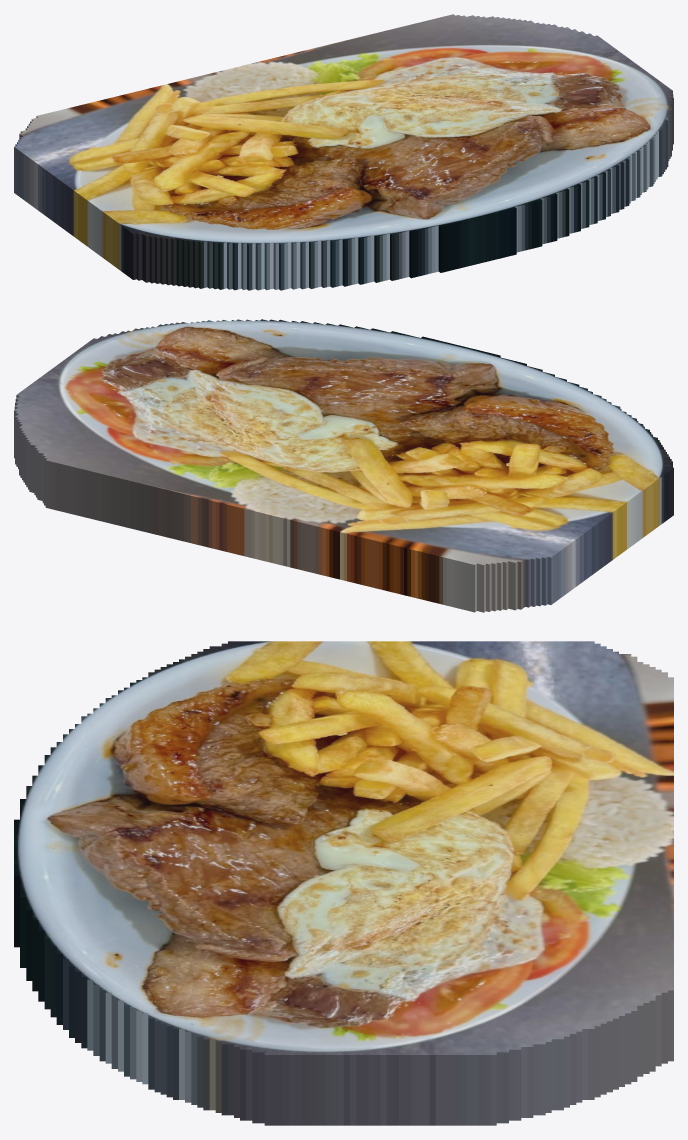
The model's file is pfdepicanha.glb.
3 views of the same model, one above another, from view 1: azimuth 30°, elevation 25°; view 2: azimuth 150°, elevation 25°; view 3: azimuth 270°, elevation 25° (orthographic). The views are drawn at different scales.
Size of the model in its own units: 0.1 by 0.008 by 0.0674.
1 material, 1 textured.
